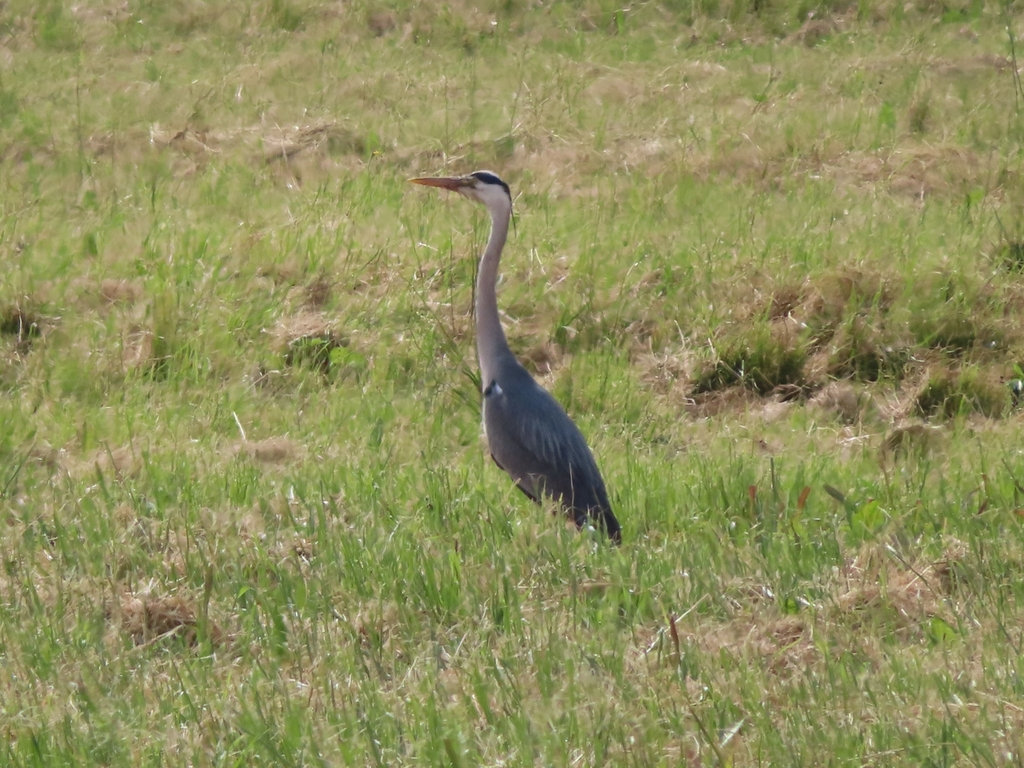heron: (405, 169, 622, 544)
